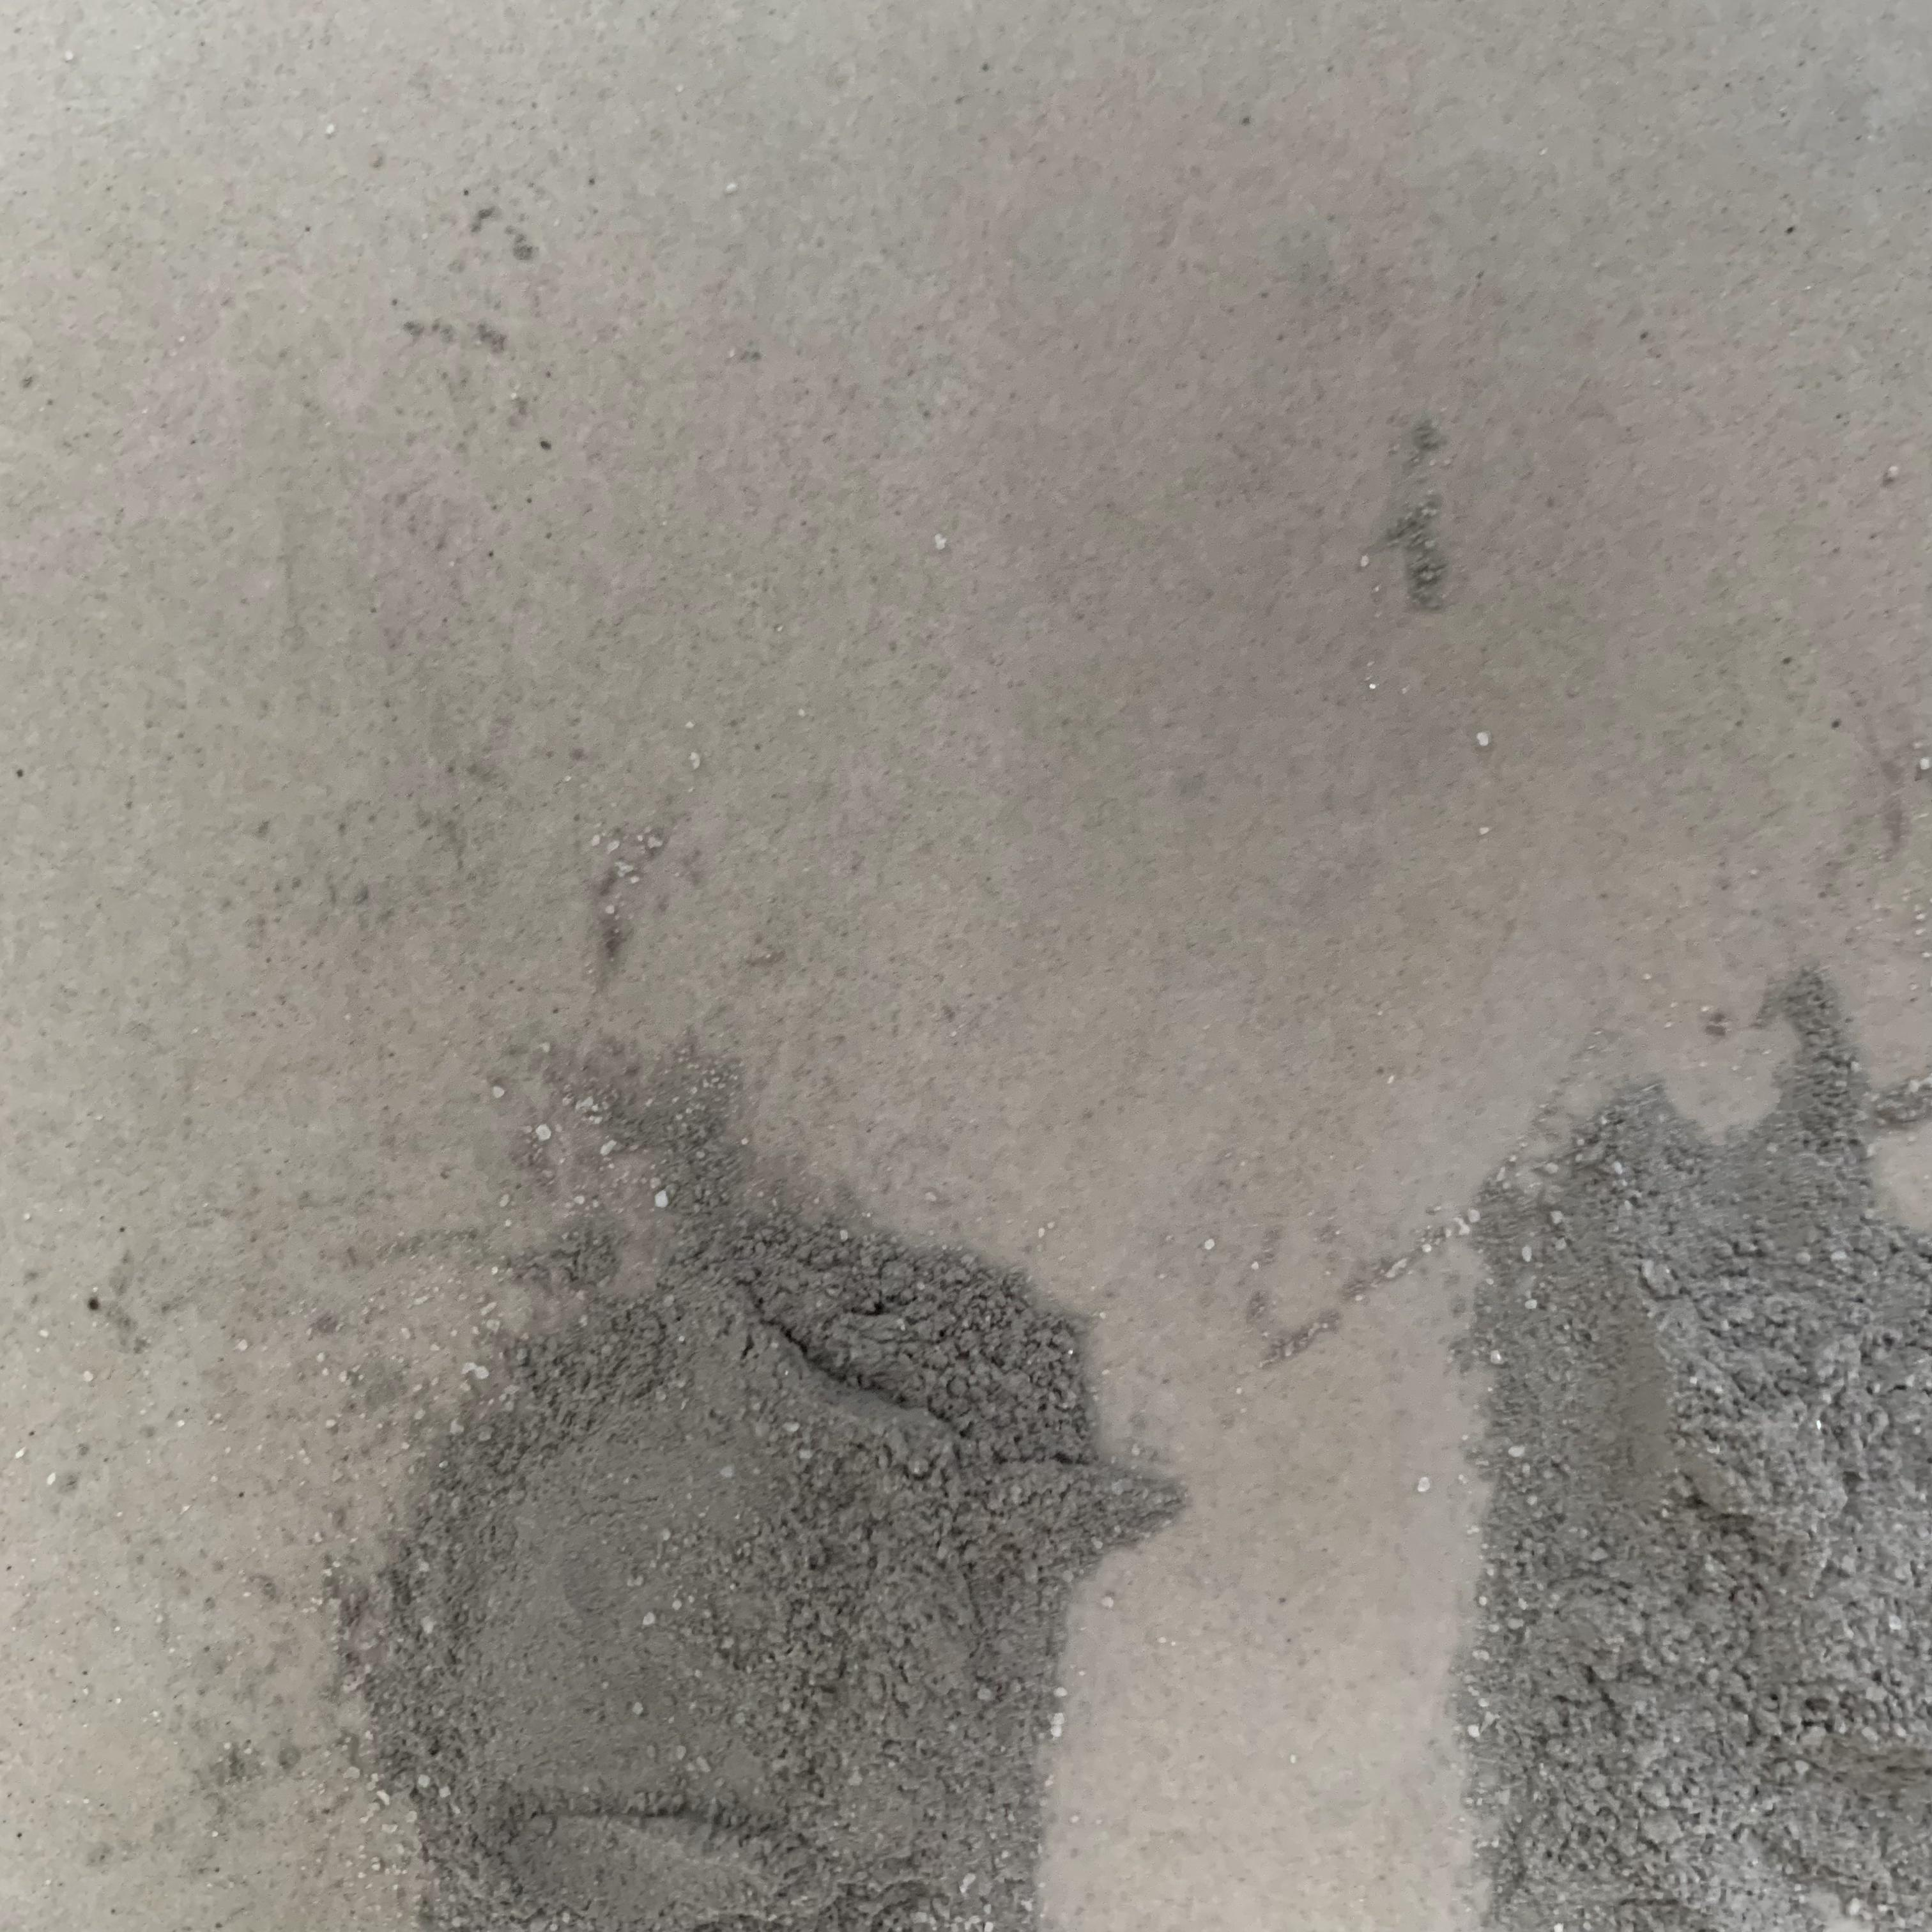ash pile: (191, 1040, 1196, 1932), (1440, 962, 1932, 1932), (1366, 419, 1461, 617)
